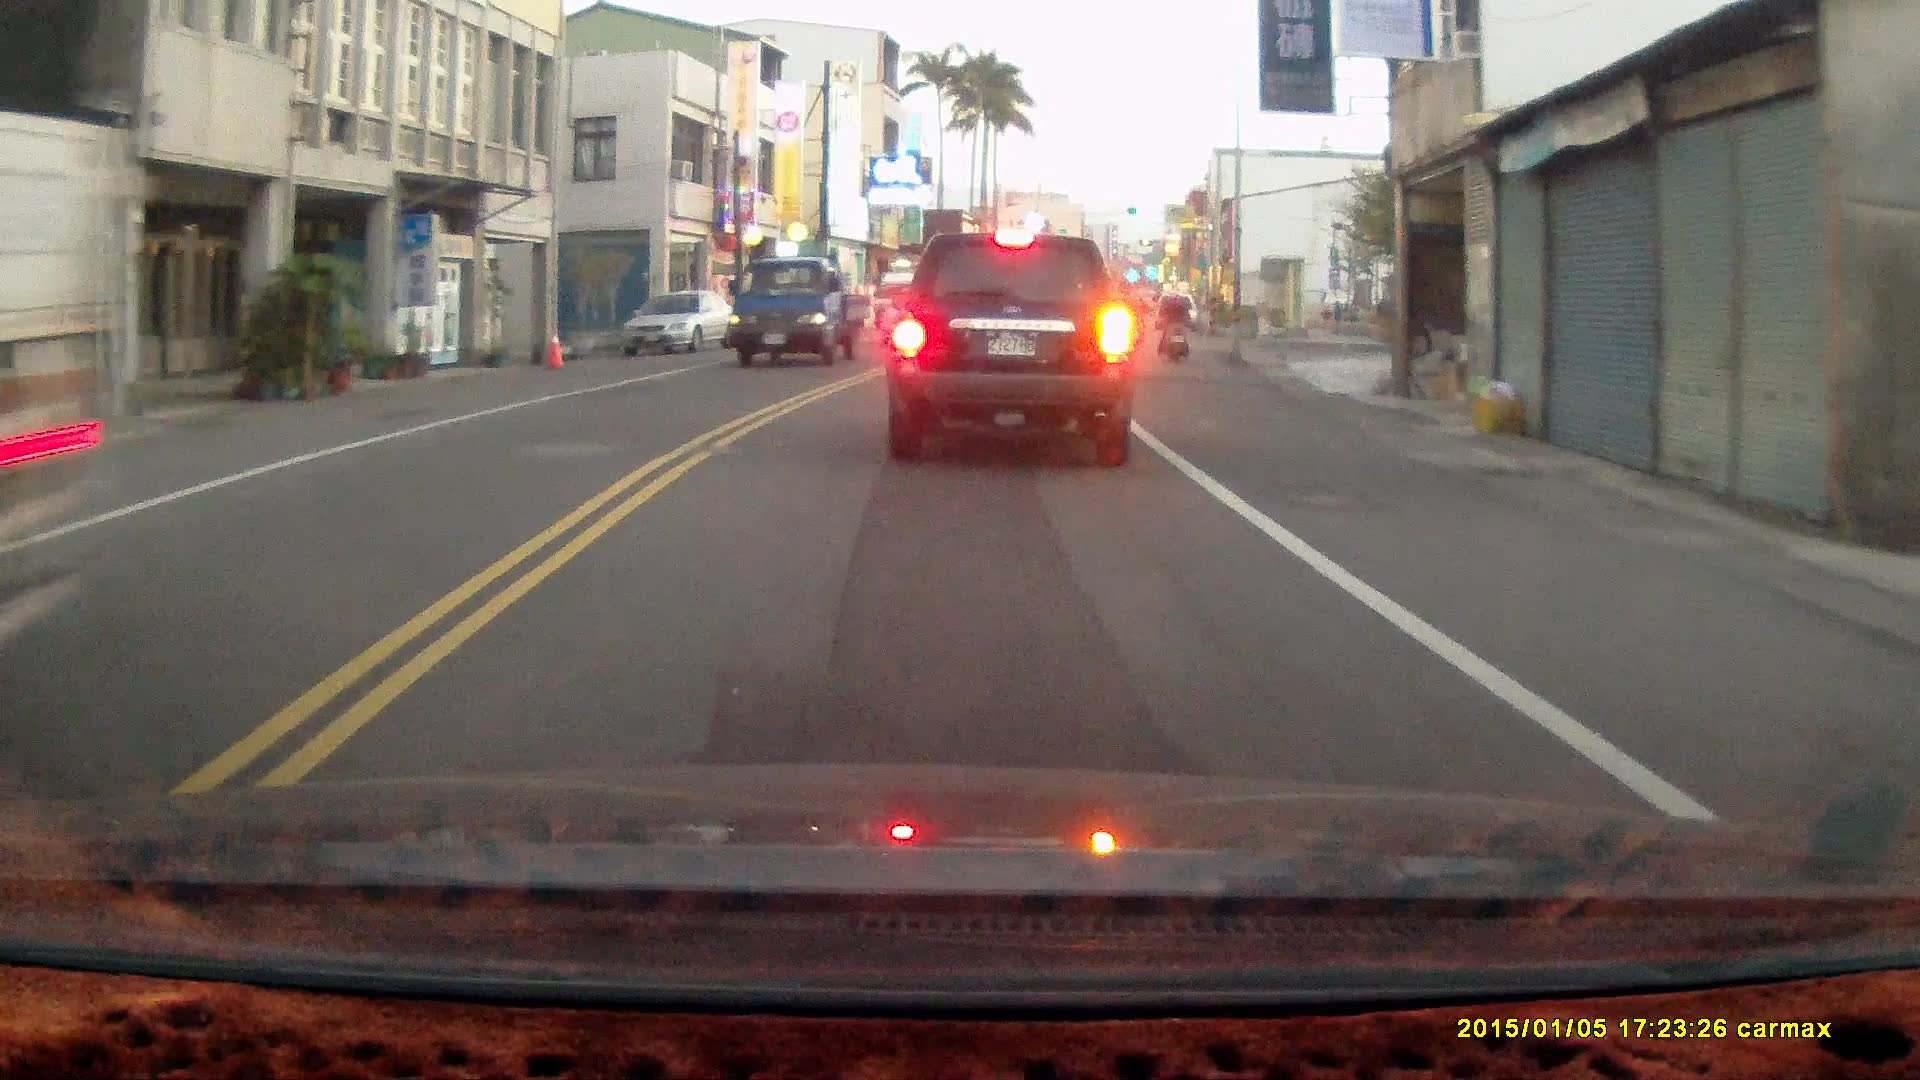rider: (1157, 280, 1188, 361), (1119, 287, 1146, 353)
vehicle: (885, 226, 1137, 464), (724, 255, 864, 370), (617, 288, 744, 355)
